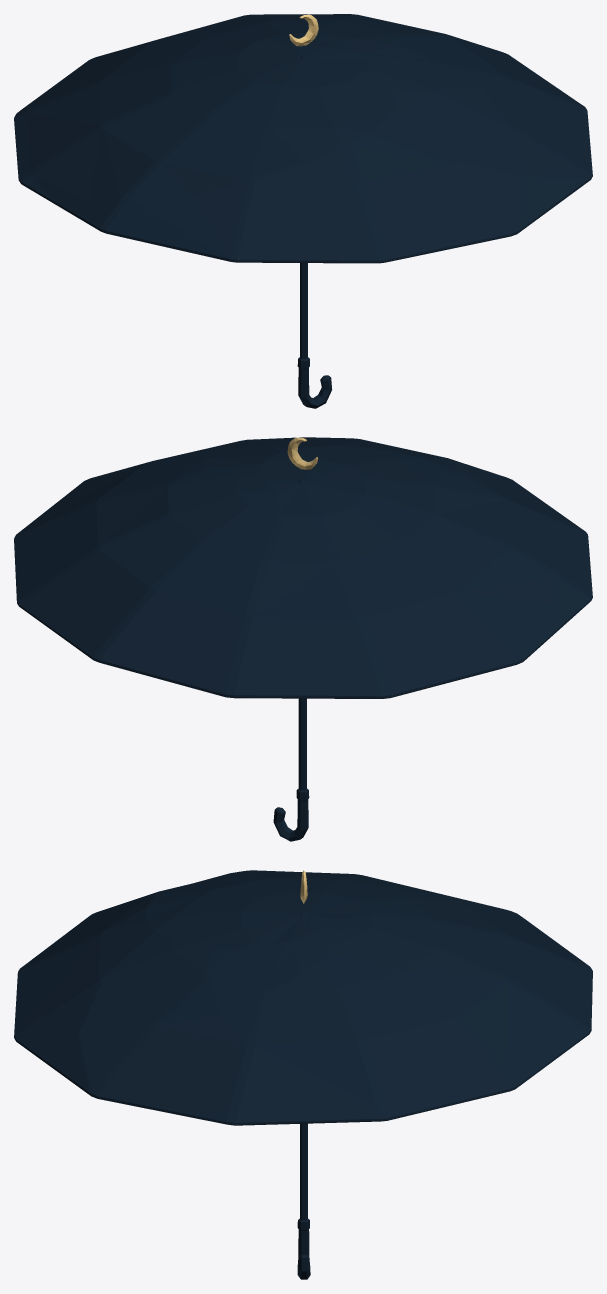
File: CharSkyKid_Prop_AP31StarryUmbrella.glb
The picture shows the model from 3 angles, top to bottom: view 1: azimuth 30°, elevation 25°; view 2: azimuth 150°, elevation 25°; view 3: azimuth 270°, elevation 25°; orthographic projection. The views are drawn at different scales.
Parts seen in each view (by area): view 1: CharSkyKid_Prop_AP31StarryUmbrella; view 2: CharSkyKid_Prop_AP31StarryUmbrella; view 3: CharSkyKid_Prop_AP31StarryUmbrella.
Boxes of the visible parts, x1,y1,x2,y2 form: CharSkyKid_Prop_AP31StarryUmbrella: [14, 14, 592, 408]; CharSkyKid_Prop_AP31StarryUmbrella: [14, 437, 592, 841]; CharSkyKid_Prop_AP31StarryUmbrella: [14, 870, 592, 1279].
Size of the model in its own units: 21.35 by 16.22 by 21.22.
1 material, 1 textured.
